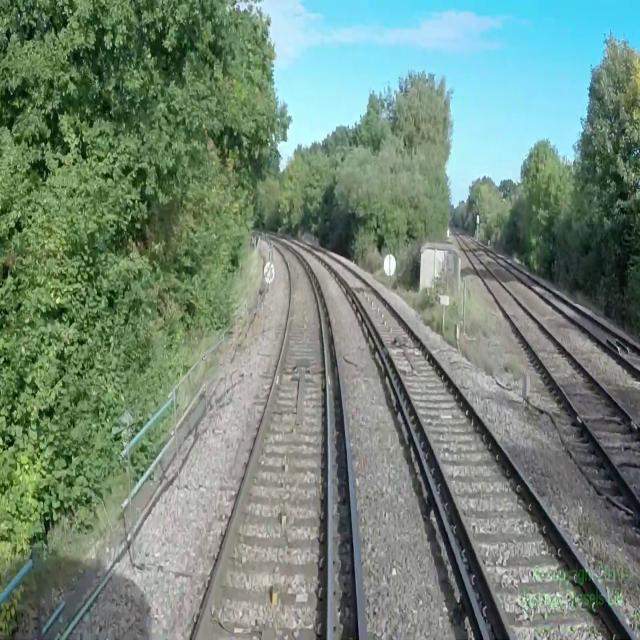rail-track: (268, 231, 632, 639), (195, 238, 326, 639), (454, 234, 640, 497), (469, 238, 640, 369)
